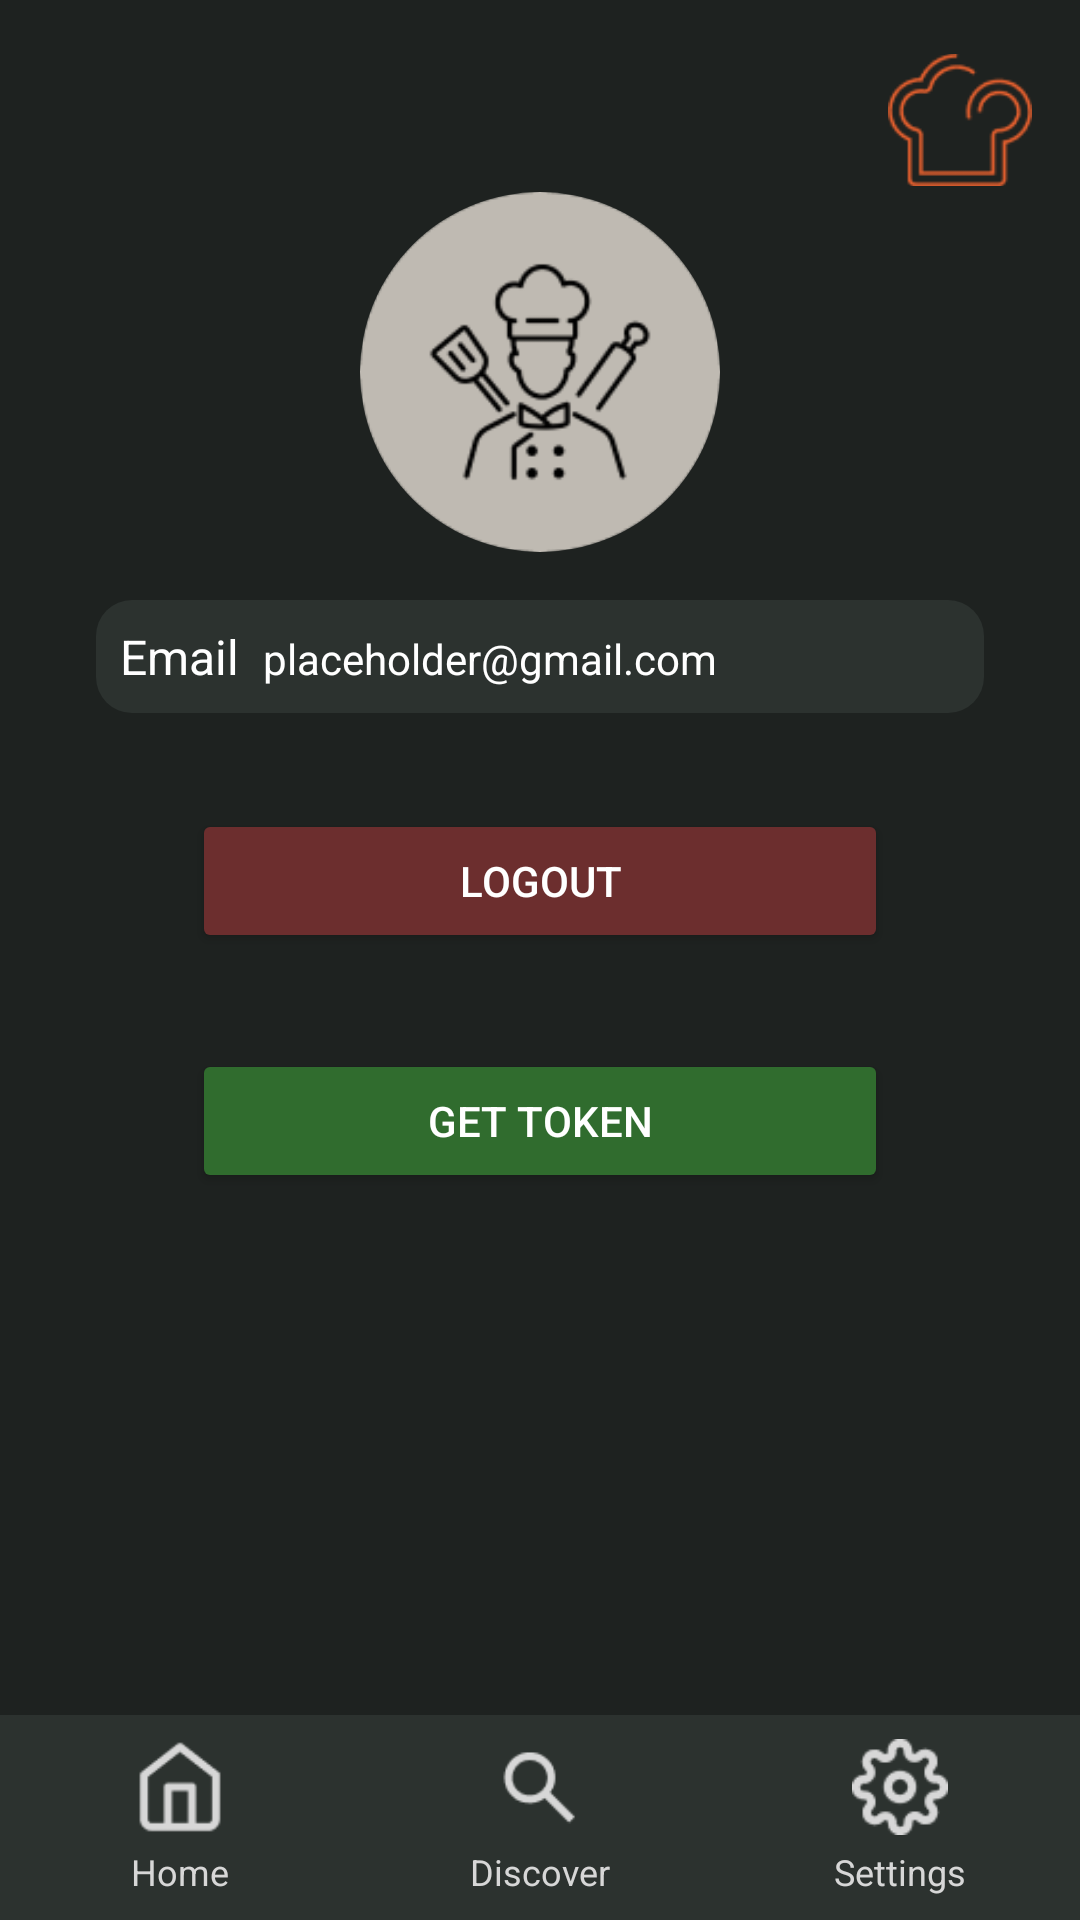

Locate icon controls on the screen. Image size 1080px x 1920px, boxes as box(x1, y1, x2, y2).
Profile picture: box(360, 192, 720, 552)
